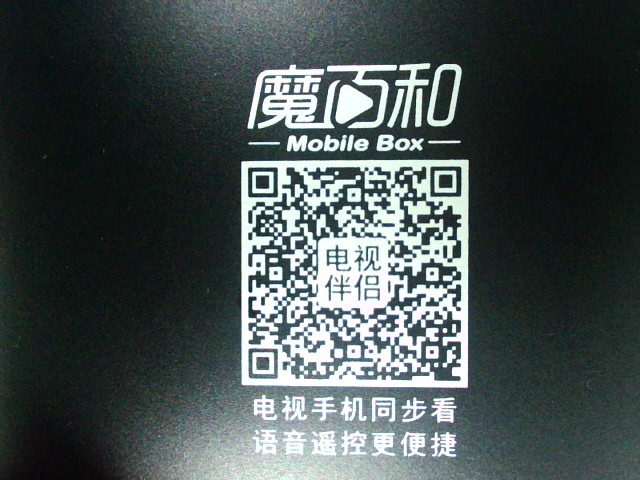AZ_MobileBox: (212, 57, 475, 463)
